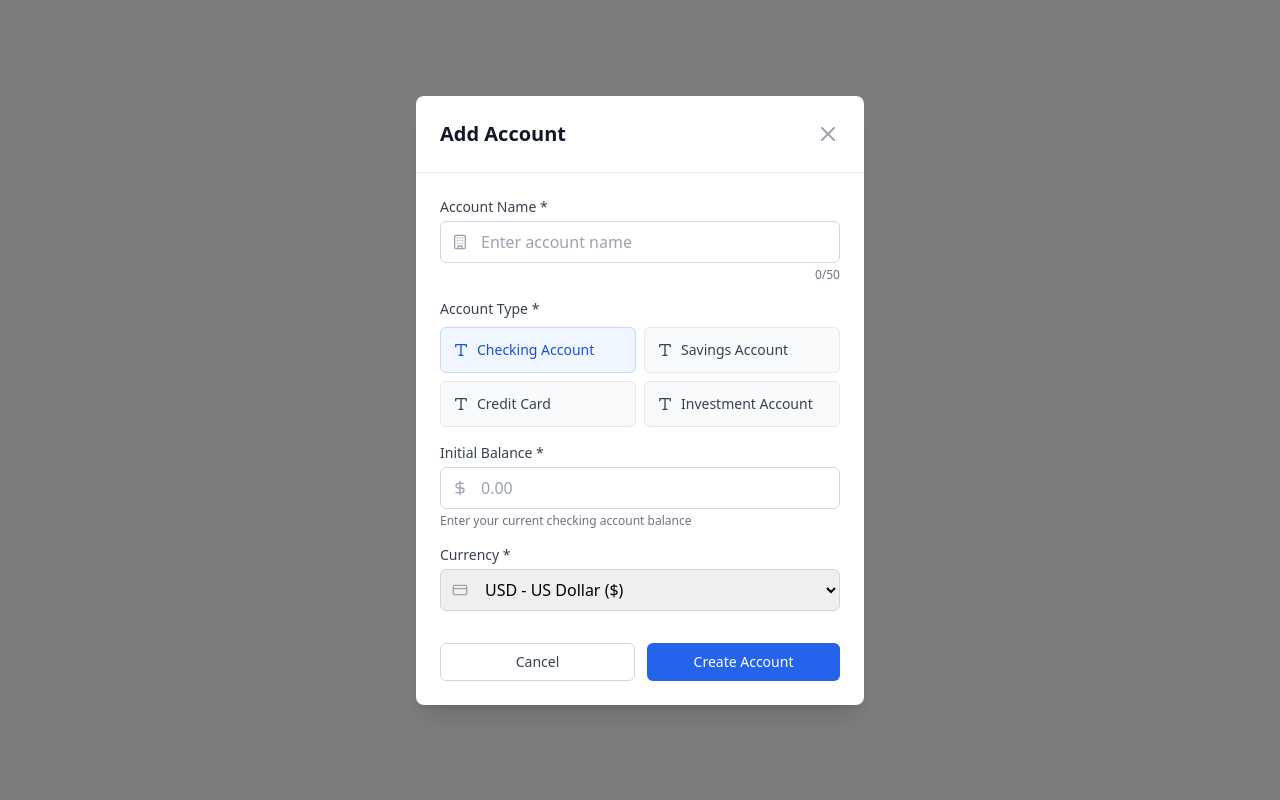
Test: AccountForm › Form Validation › should show error for empty account name
Click the button "Create Account".
click(744, 662)  # box [647,642,840,680]
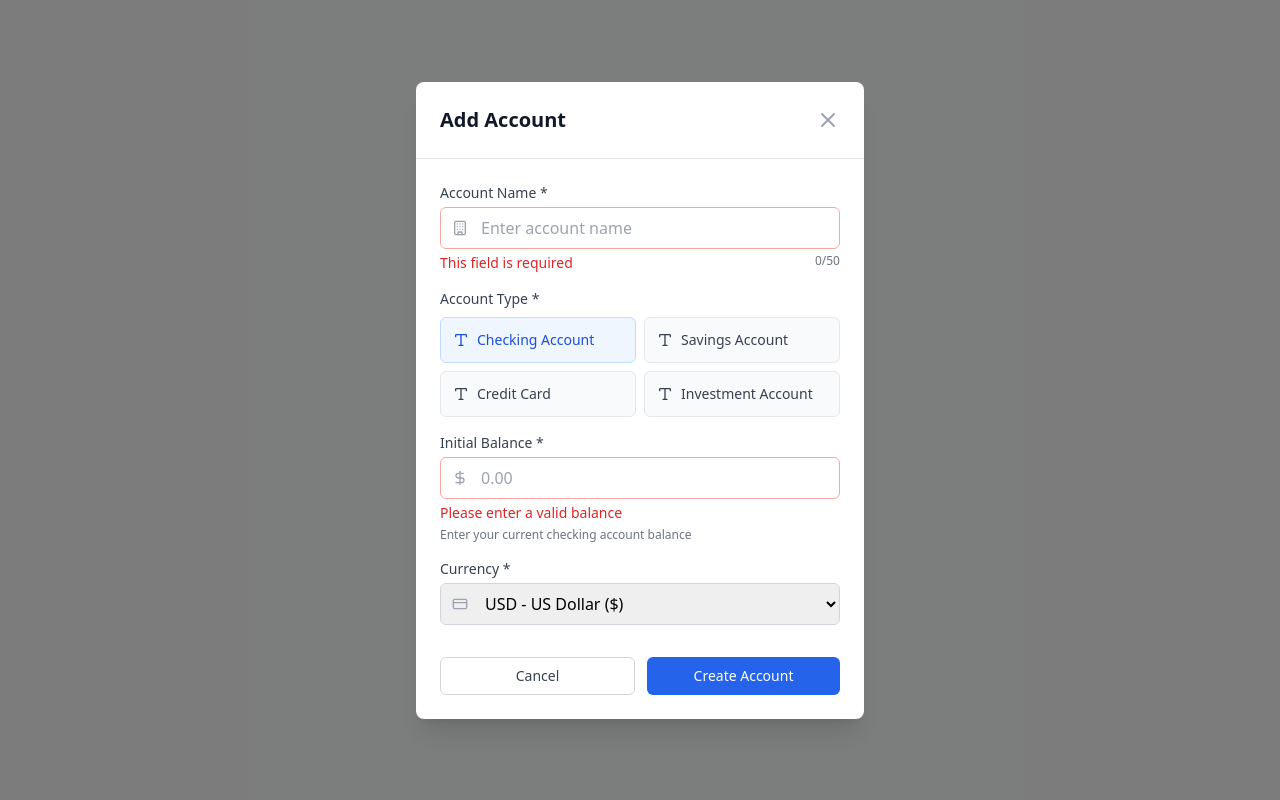
Expected: the text "This field is required" is shown, [440,252,573,272]
